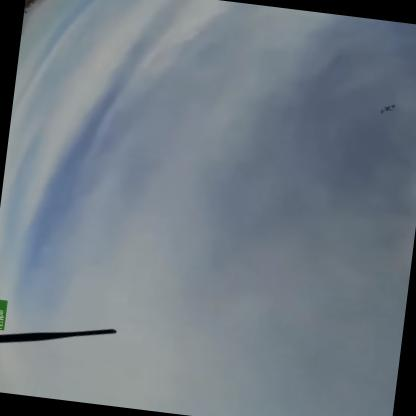drone: (375, 100, 399, 116)
